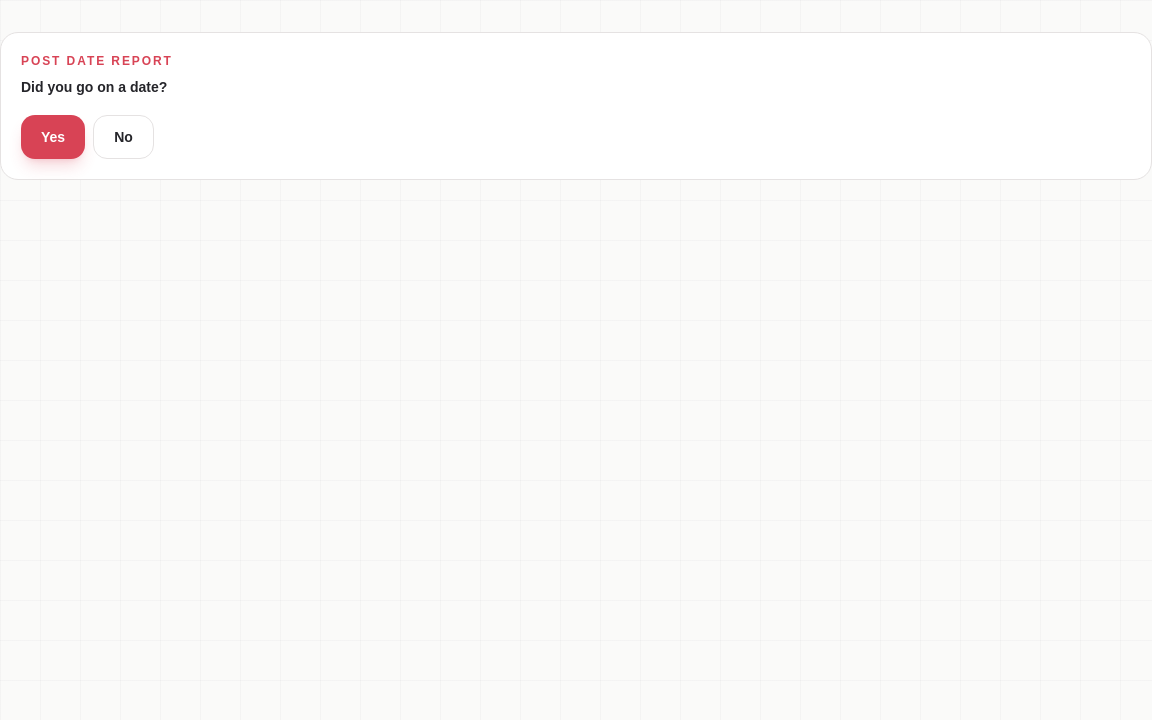
Test case: date feedback controls › hides Yes/No after no date, records nothing, and lets the question reopen
Click the button "No": point(123, 137) [93,115,154,159]
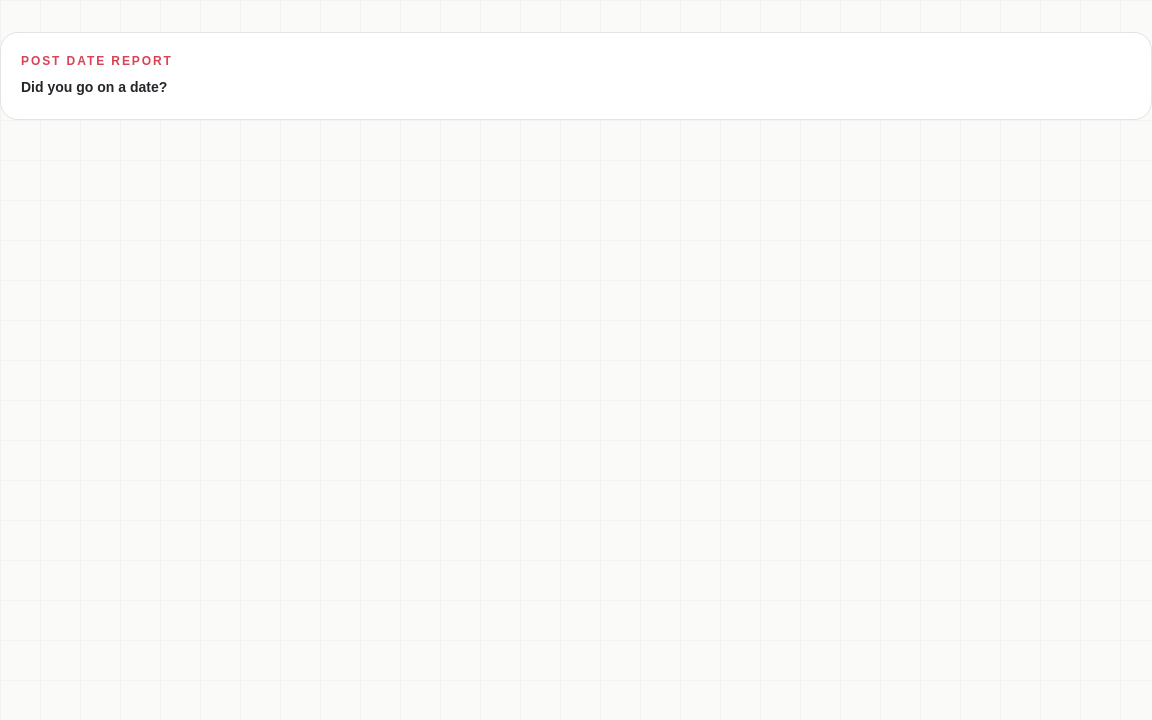
Now the button "Yes" is gone
Click the button "Did you go on a date?": point(94, 87) [21,77,167,97]
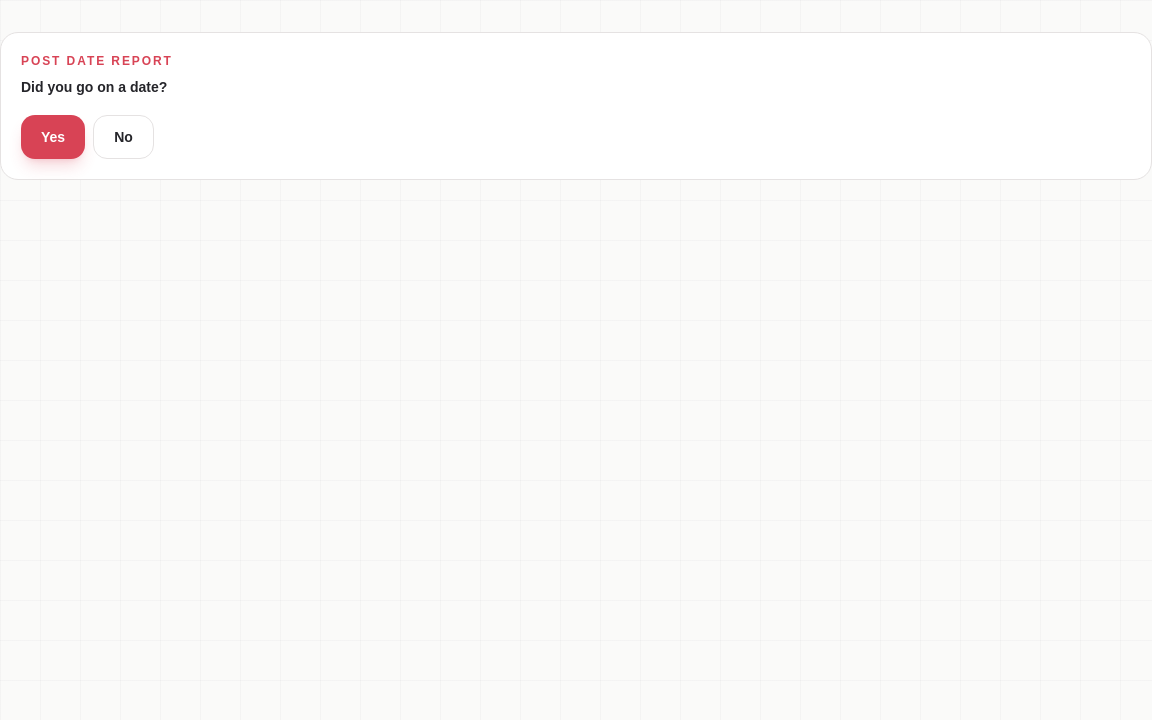
Now the button "Yes" is shown, box [21,115,85,159]
